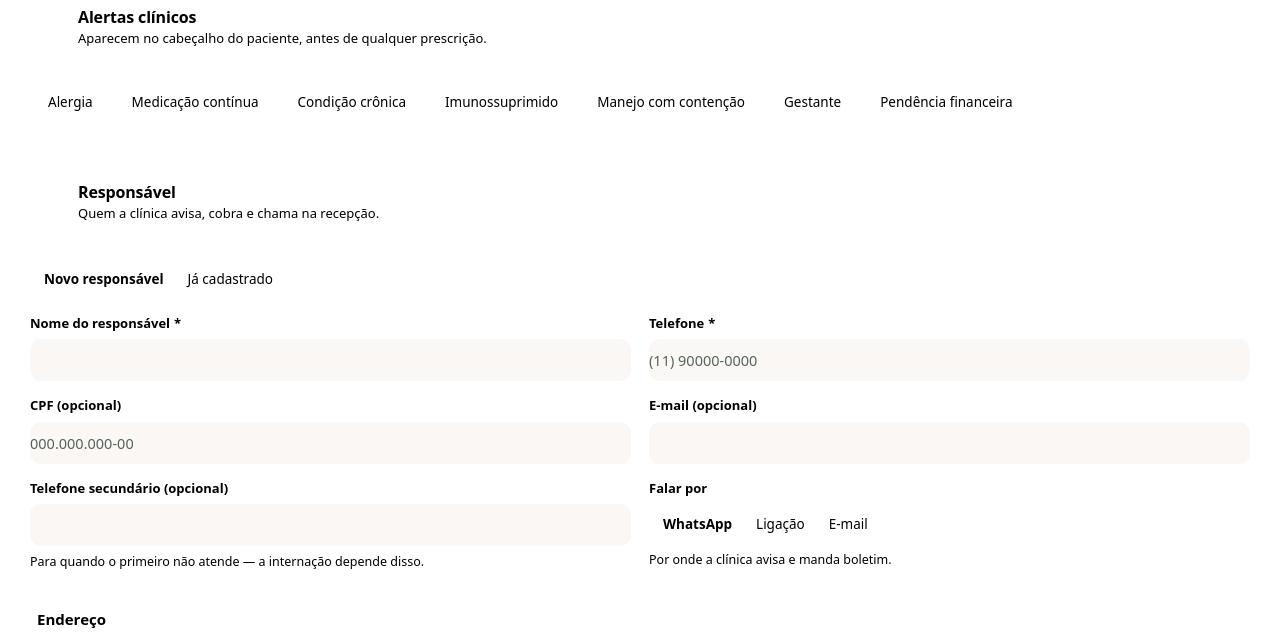
cadastro completo de paciente › avisa do responsável repetido antes de criar o segundo cadastro
(page scrolled)
Type "(11) 98422-1030" into the field labelled "Telefone *" at (950, 360), box [649,339,1250,381]
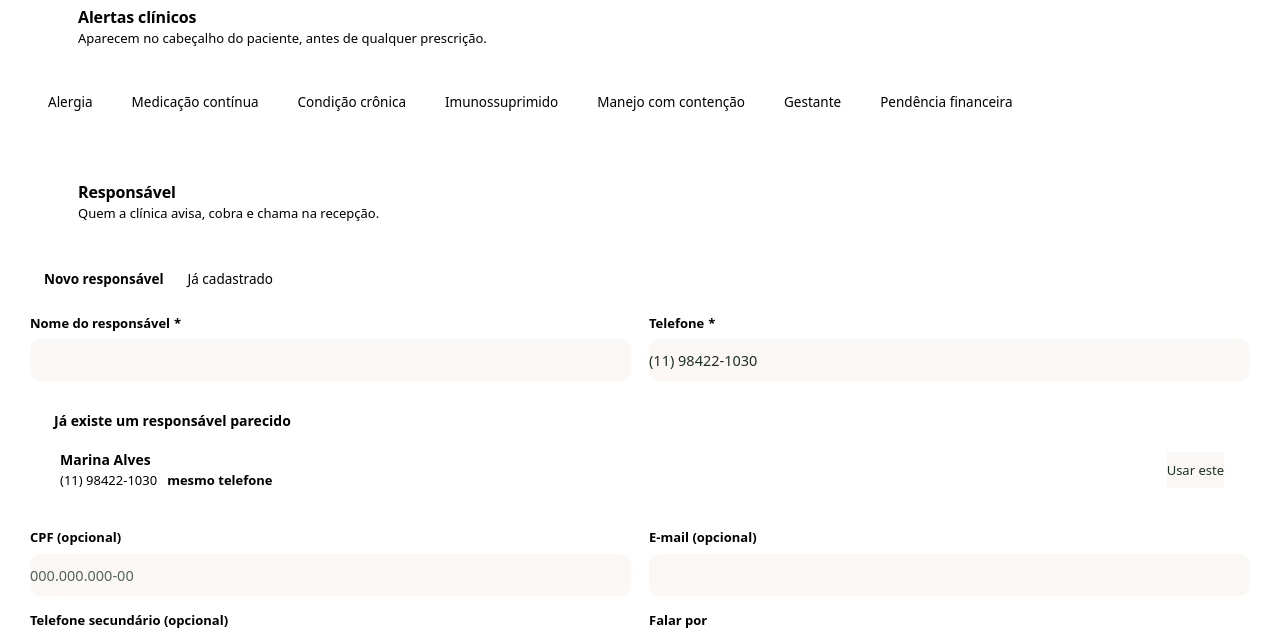
Expected: the text "Já existe um responsável parecido" is shown, [54,411,291,430]
Expected: the text "Marina Alves" is shown, [60,450,151,469]
Click the button "Usar este" at (1195, 470), box [1167,452,1224,488]
(page scrolled)
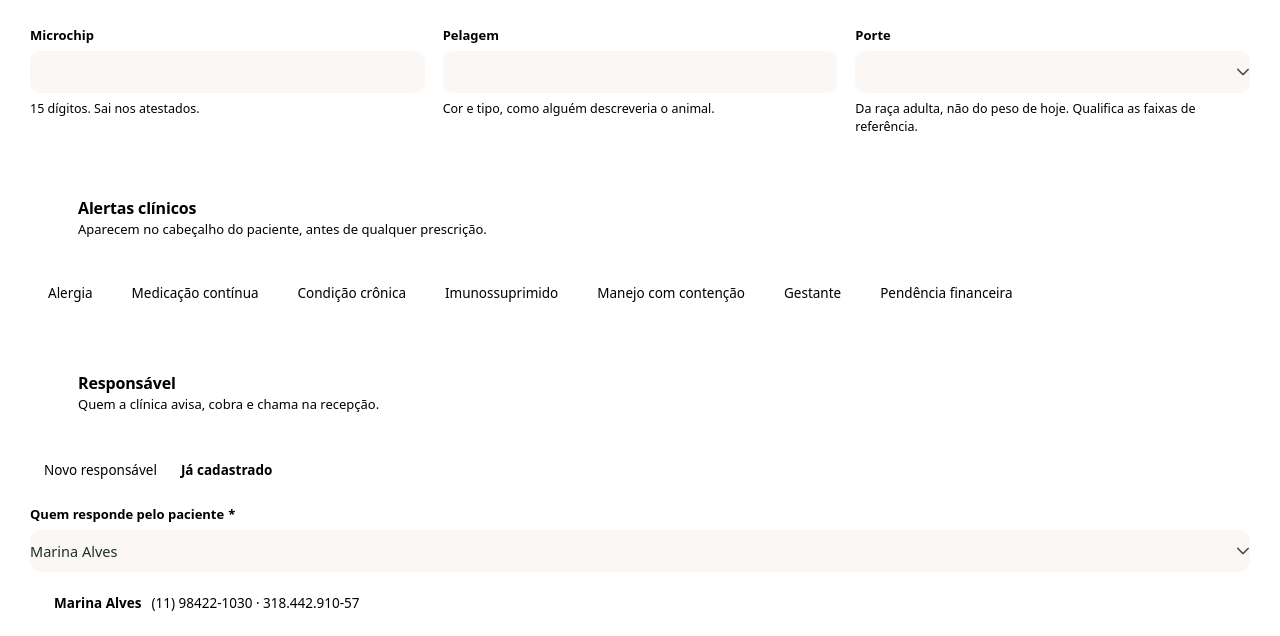
Expected: the text "Nome do responsável" is gone
